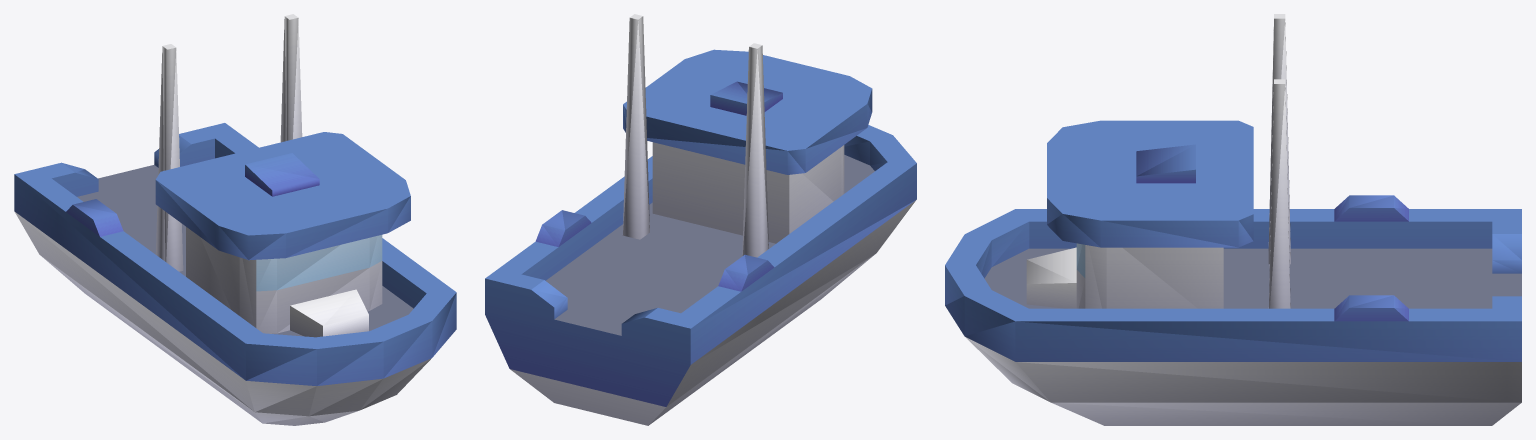
File: kw_boat_fishing_small.fbx
The picture shows the model from 3 angles, left to right: view 1: azimuth 30°, elevation 25°; view 2: azimuth 150°, elevation 25°; view 3: azimuth 270°, elevation 25°; orthographic projection. The views are drawn at different scales.
Parts seen in each view (by area): view 1: kw_boat_fishing_small; view 2: kw_boat_fishing_small; view 3: kw_boat_fishing_small.
Part boxes in pixels (x1,y1,x2,y2): kw_boat_fishing_small: (14,14,456,425); kw_boat_fishing_small: (485,14,916,425); kw_boat_fishing_small: (945,14,1521,425).
Size of the model in its own units: 4.11 by 5.98 by 8.9.
